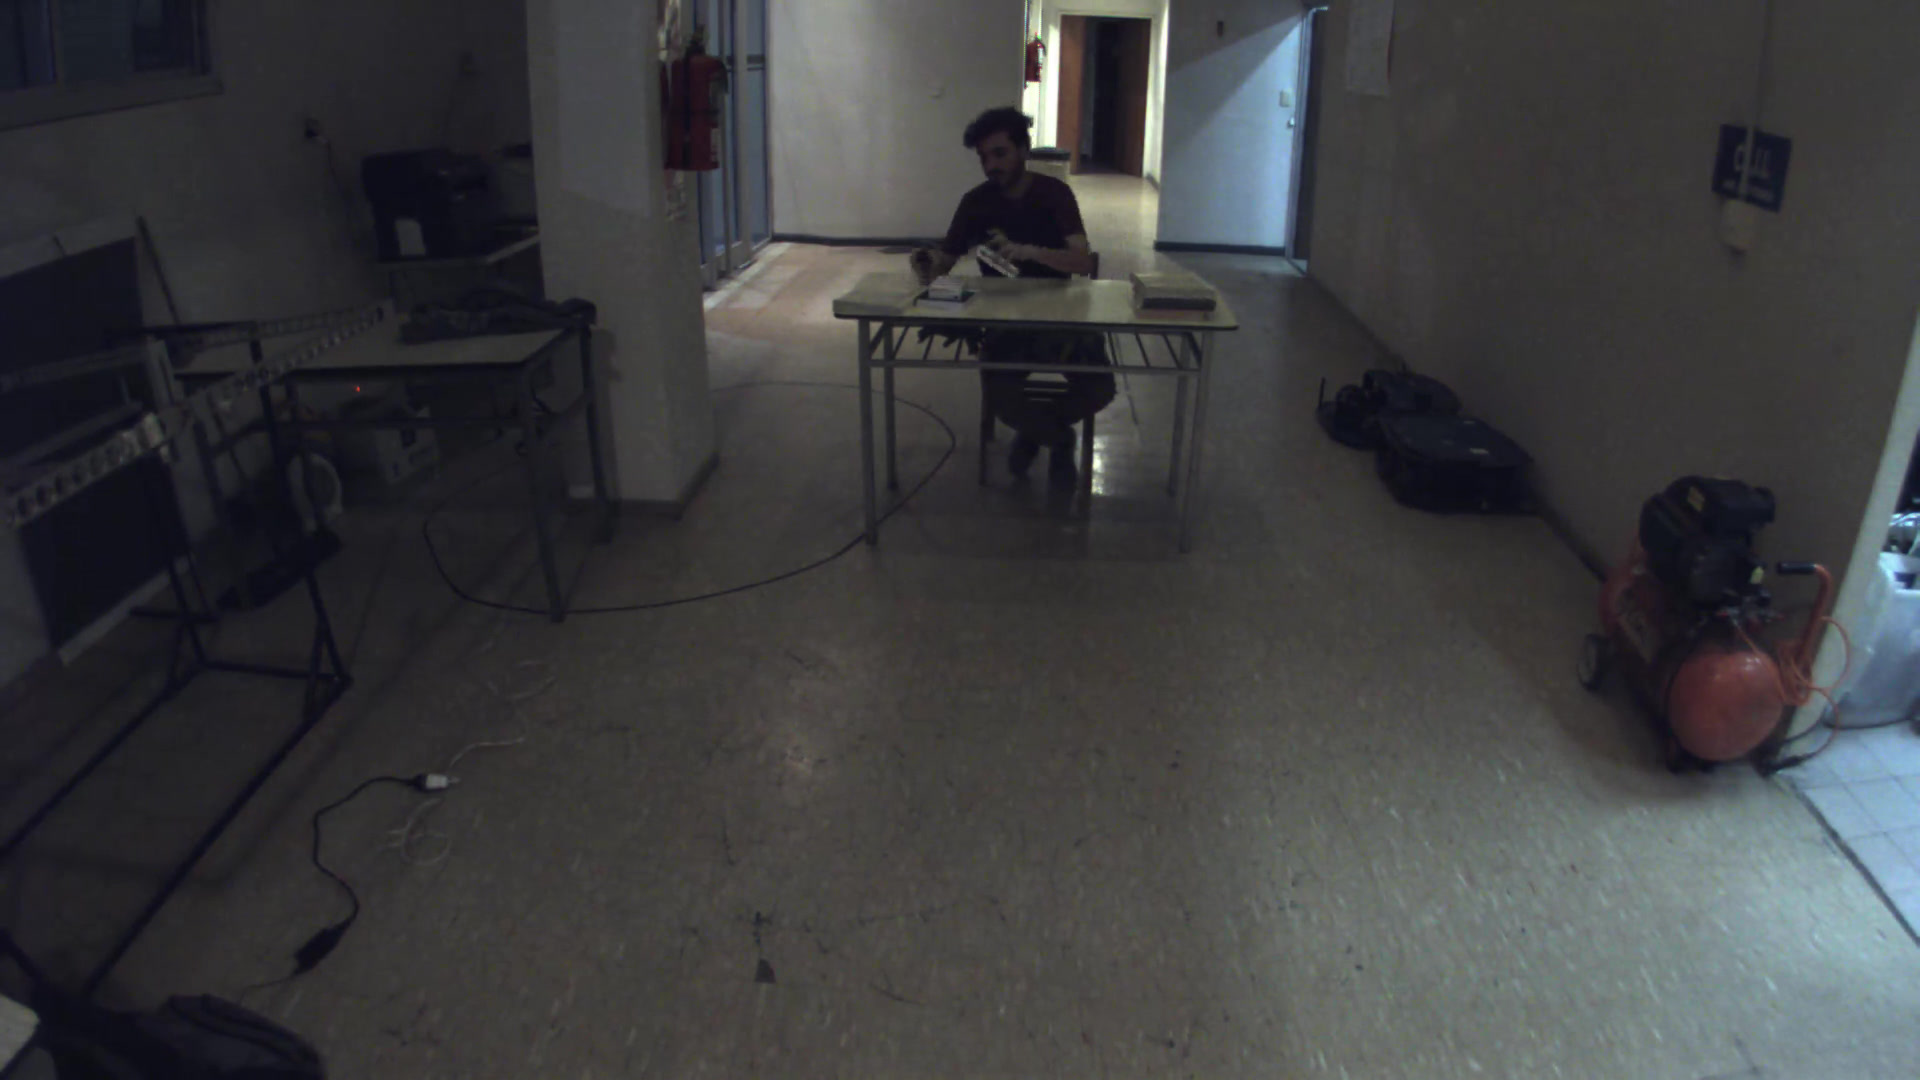hand: (988, 225, 1039, 269)
